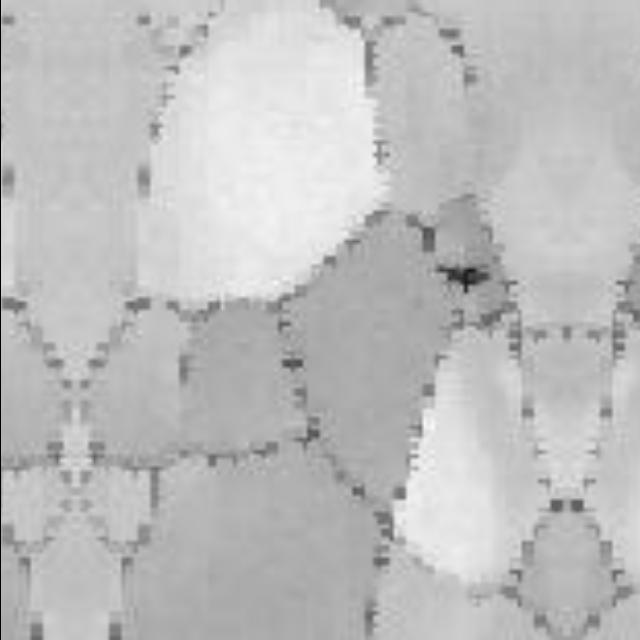good_void: (431, 261, 491, 295)
